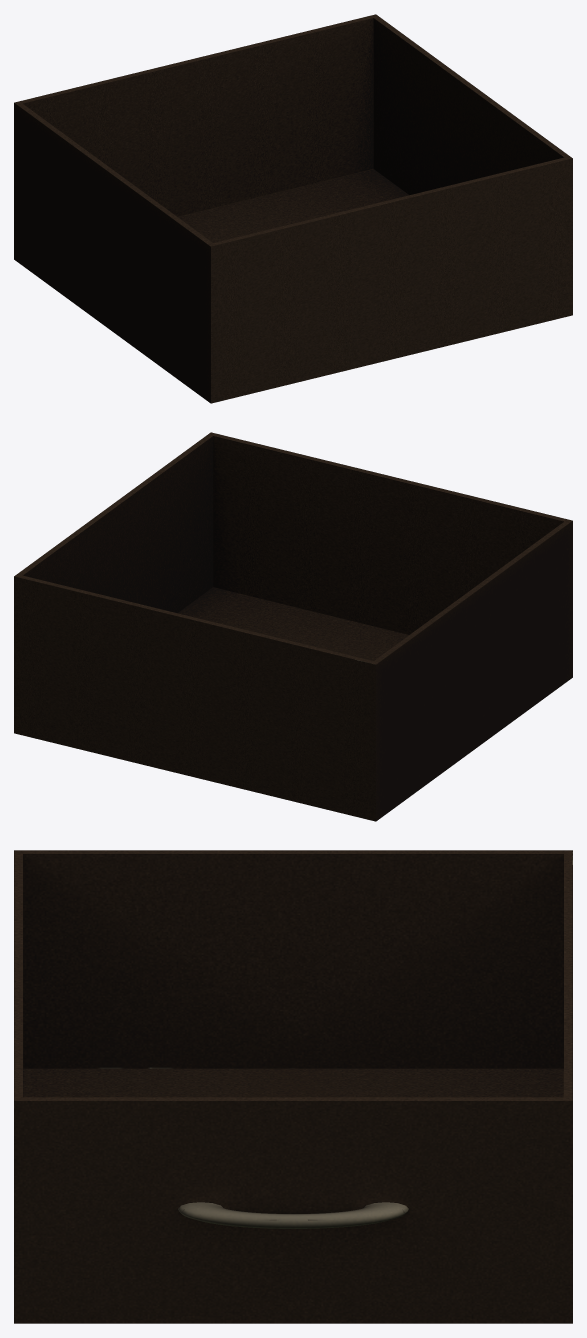
File: drawer-top.obj
The picture shows the model from 3 angles, top to bottom: view 1: azimuth 30°, elevation 25°; view 2: azimuth 150°, elevation 25°; view 3: azimuth 270°, elevation 25°; orthographic projection. The views are drawn at different scales.
Parts seen in each view (by area): view 1: Drawer_Top_Cube.006; view 2: Drawer_Top_Cube.006; view 3: Drawer_Top_Cube.006.
Boxes of the visible parts, x1,y1,x2,y2 form: Drawer_Top_Cube.006: (14,14,572,403); Drawer_Top_Cube.006: (14,432,572,821); Drawer_Top_Cube.006: (14,850,572,1323).
Bounding box in the file's own units: 0.5287 × 0.206 × 0.4688.
2 materials, 2 textured.
